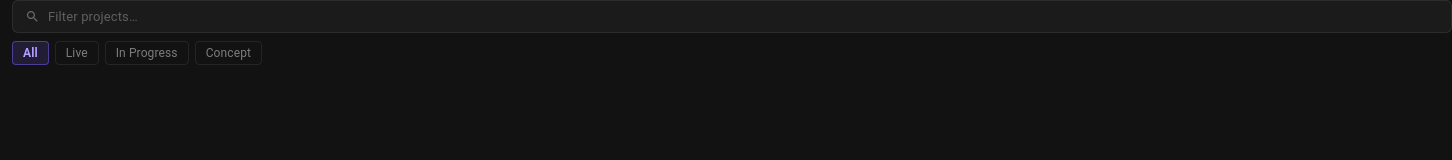
Test case: ProjectSearch › shows a clear button only when the query is non-empty
This screenshot has width=1452, height=160.
Type "test" into the field at (744, 16), box [48, 7, 1439, 26]
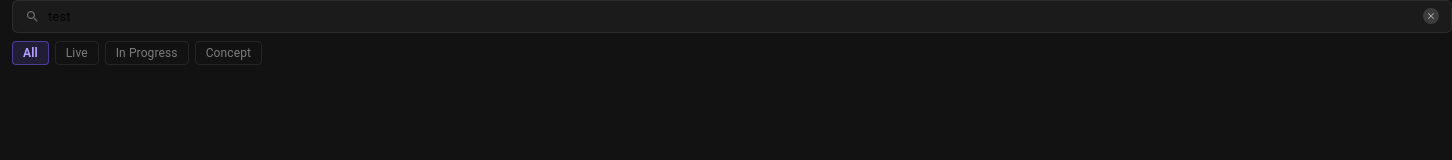
Check: the button named "clear" is shown, box [1423, 8, 1439, 24]
